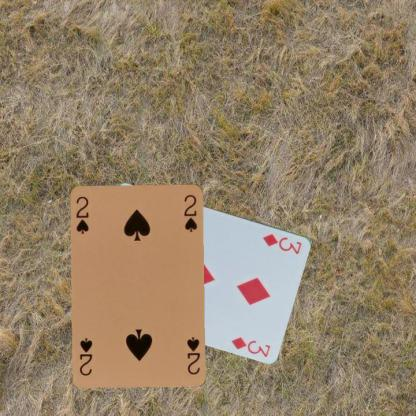2s: (184, 334, 201, 376), (74, 193, 90, 234)
3d: (260, 231, 304, 256)
